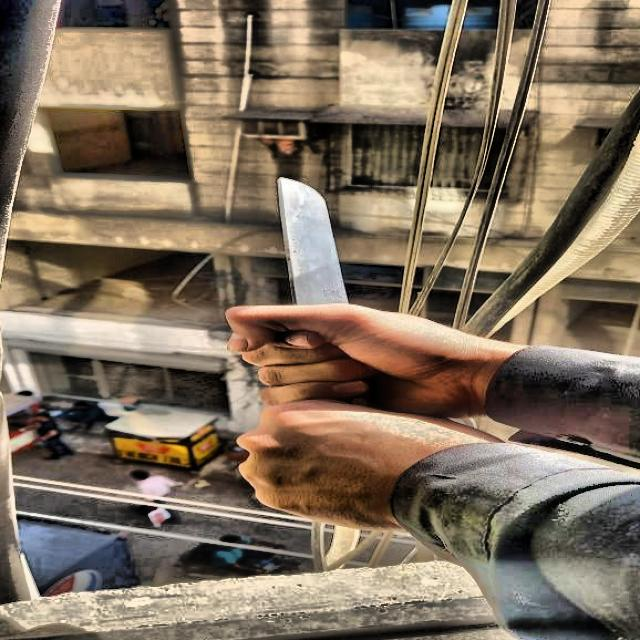knife: (279, 179, 351, 305)
